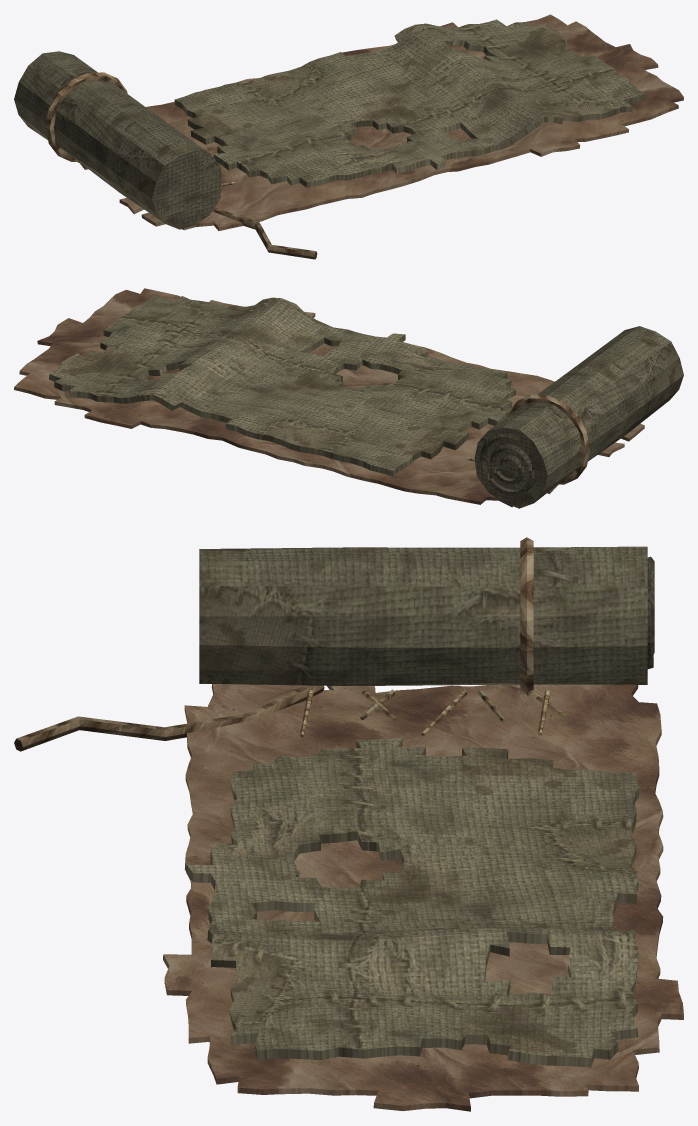
Rendered from junk_bedroll_rotten.glb.
3 views of the same model, one above another, from view 1: azimuth 30°, elevation 25°; view 2: azimuth 150°, elevation 25°; view 3: azimuth 270°, elevation 25° (orthographic). The views are drawn at different scales.
Visible parts, largest first — view 1: model; view 2: model; view 3: model.
Boxes of the visible parts, <box> form: model: <box>14,14,683,259</box>; model: <box>14,288,683,508</box>; model: <box>14,537,683,1111</box>.
Bounding box in the file's own units: 1.25 × 0.1948 × 0.7774.
Materials: 9 (9 with a texture image).
